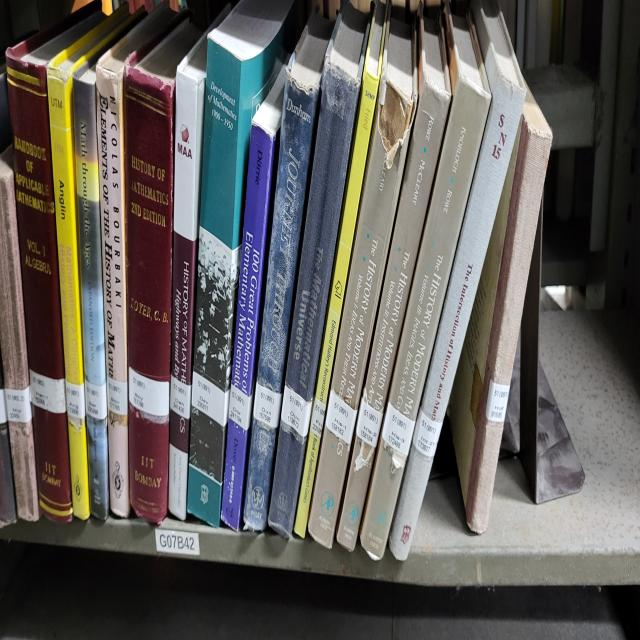Book: (389, 0, 526, 560), (360, 14, 490, 560), (339, 19, 451, 552), (188, 0, 298, 528), (308, 19, 415, 549), (269, 3, 370, 538), (295, 0, 386, 538), (244, 11, 334, 530), (6, 16, 96, 522), (448, 92, 551, 533), (389, 16, 490, 422), (96, 5, 174, 517), (48, 19, 125, 519), (124, 19, 200, 522), (221, 65, 286, 530), (169, 32, 208, 519), (72, 62, 109, 519), (0, 149, 40, 522)
Label: (191, 371, 230, 427), (129, 368, 170, 417), (382, 403, 415, 457), (325, 390, 356, 444), (281, 384, 312, 438), (412, 409, 441, 457), (254, 381, 282, 427), (356, 398, 382, 446), (229, 384, 252, 430), (486, 381, 510, 422), (85, 379, 108, 419), (170, 376, 191, 419), (106, 376, 128, 414), (66, 381, 85, 419), (310, 398, 326, 438)
